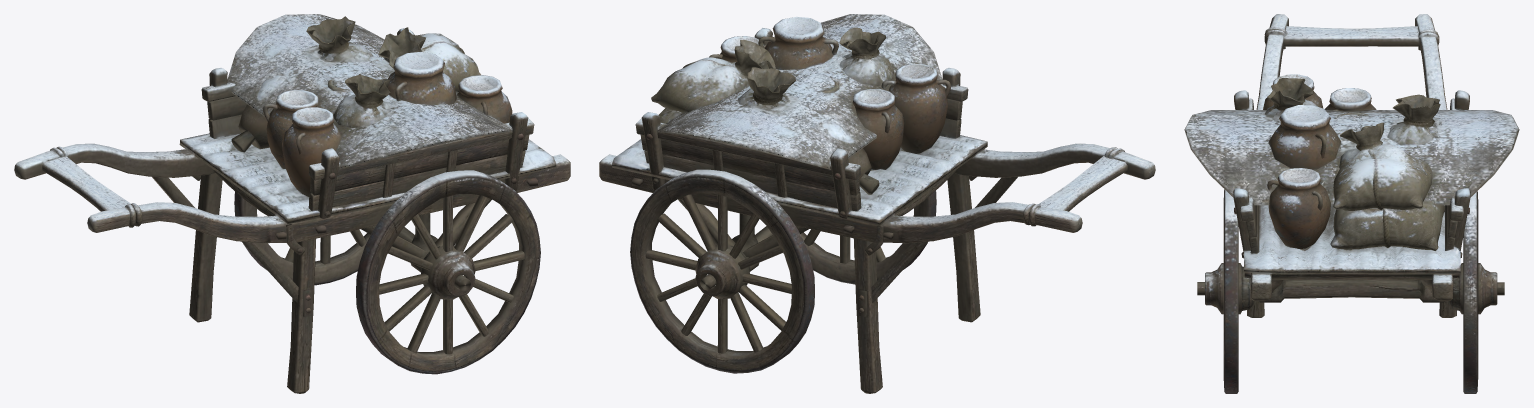
The model's file is snow-cart.glb.
The picture shows the model from 3 angles, left to right: view 1: azimuth 30°, elevation 25°; view 2: azimuth 150°, elevation 25°; view 3: azimuth 270°, elevation 25°; orthographic projection.
Parts seen in each view (by area): view 1: tripo_4e89866d_2348_4a2d_8402_470e66e0cb72; view 2: tripo_4e89866d_2348_4a2d_8402_470e66e0cb72; view 3: tripo_4e89866d_2348_4a2d_8402_470e66e0cb72.
Part boxes in pixels (x1,y1,x2,y2): tripo_4e89866d_2348_4a2d_8402_470e66e0cb72: (14,14,570,393); tripo_4e89866d_2348_4a2d_8402_470e66e0cb72: (599,14,1155,393); tripo_4e89866d_2348_4a2d_8402_470e66e0cb72: (1184,14,1519,393).
Bounding box in the file's own units: 0.9995 × 0.5747 × 0.6313.
Materials: 1 (1 with a texture image).
